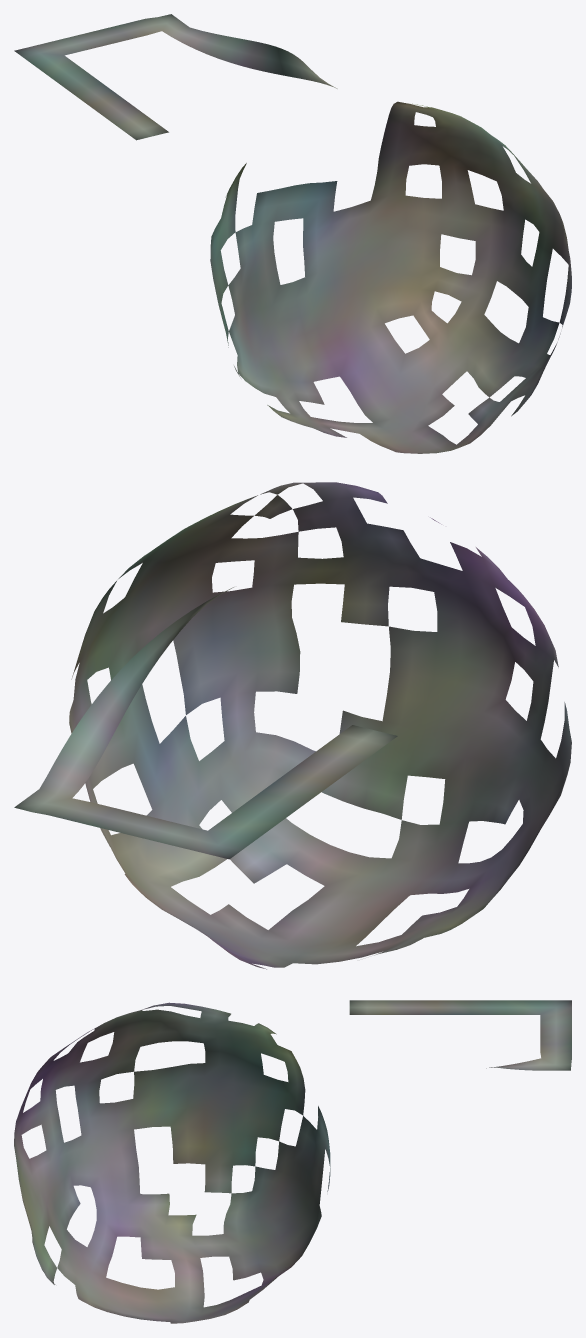
Rendered from lattice2.glb.
3 renders of one model, top to bottom at view 1: azimuth 30°, elevation 25°; view 2: azimuth 150°, elevation 25°; view 3: azimuth 270°, elevation 25°, orthographic. The views are drawn at different scales.
Parts seen in each view (by area): view 1: file1; view 2: file1; view 3: file1.
Part boxes in pixels (x1,y1,x2,y2): file1: (14, 14, 571, 453); file1: (14, 482, 571, 969); file1: (14, 1000, 571, 1323).
Bounding box in the file's own units: 51.01 × 50.71 × 87.88.
